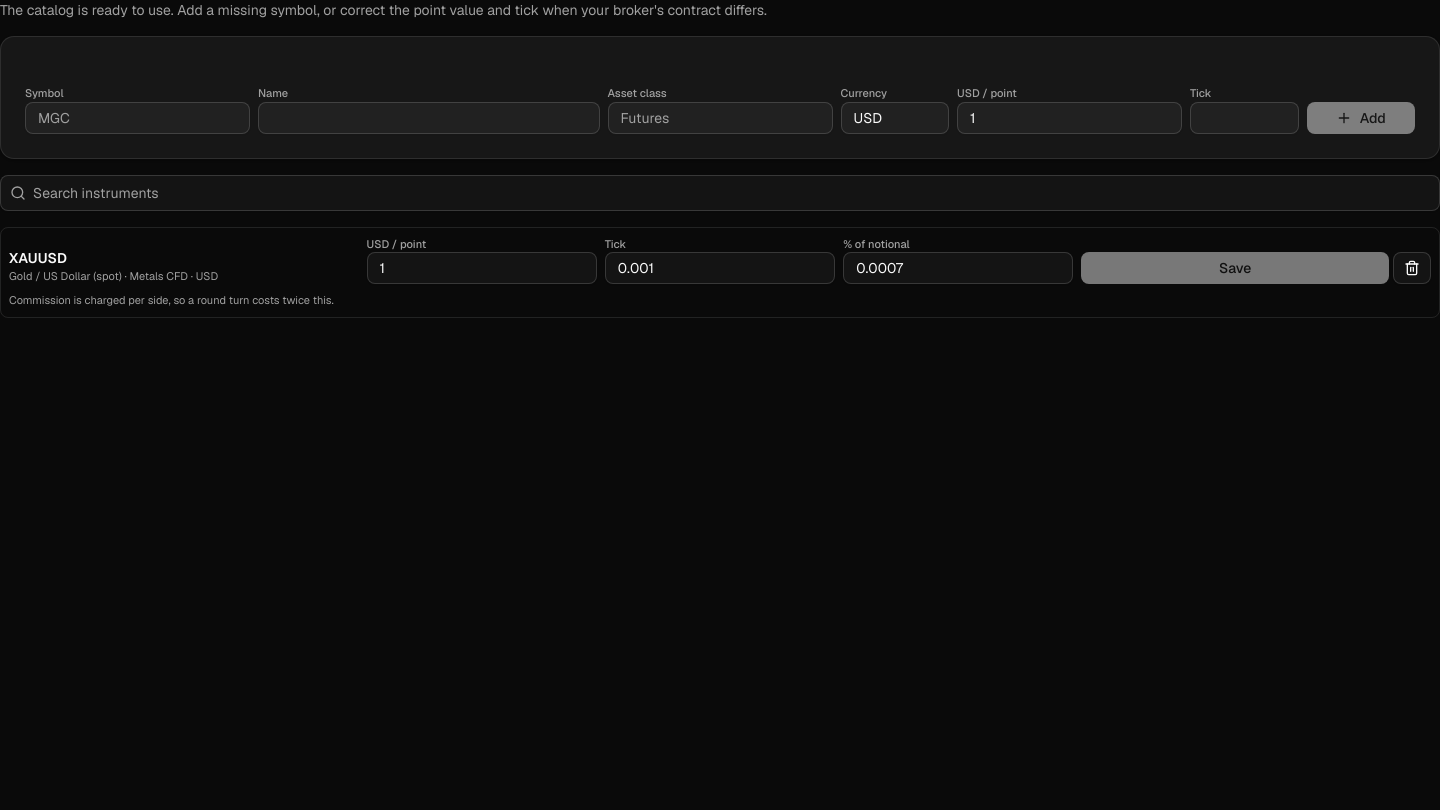
Test: deleting one › a failed count is said out loud, not read as zero
Click the button named "Delete XAUUSD". click: (1412, 268)
box: x1=1393 y1=252 x2=1431 y2=284
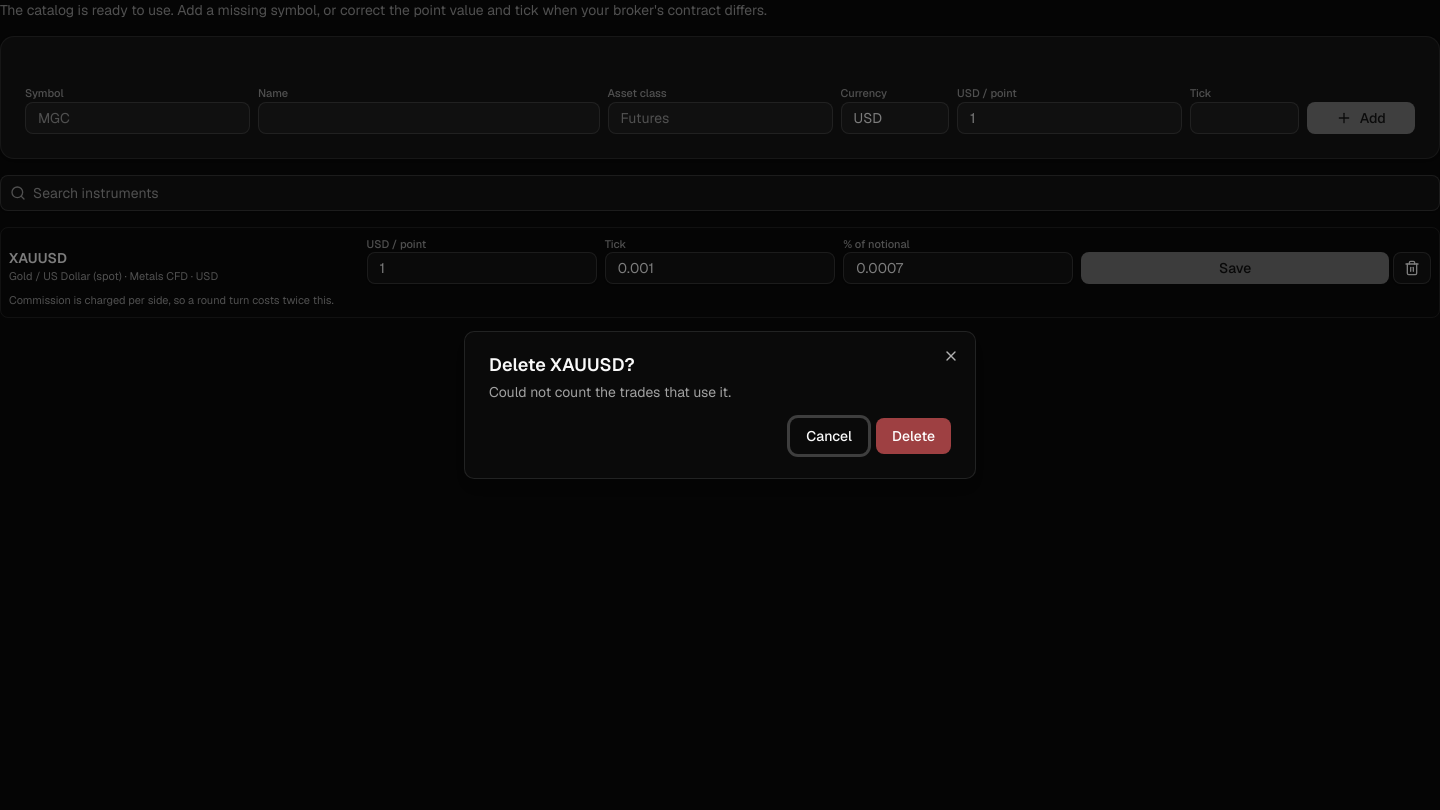
Check: the text "Could not count the trades that use it." is shown, box x1=489 y1=383 x2=731 y2=401
